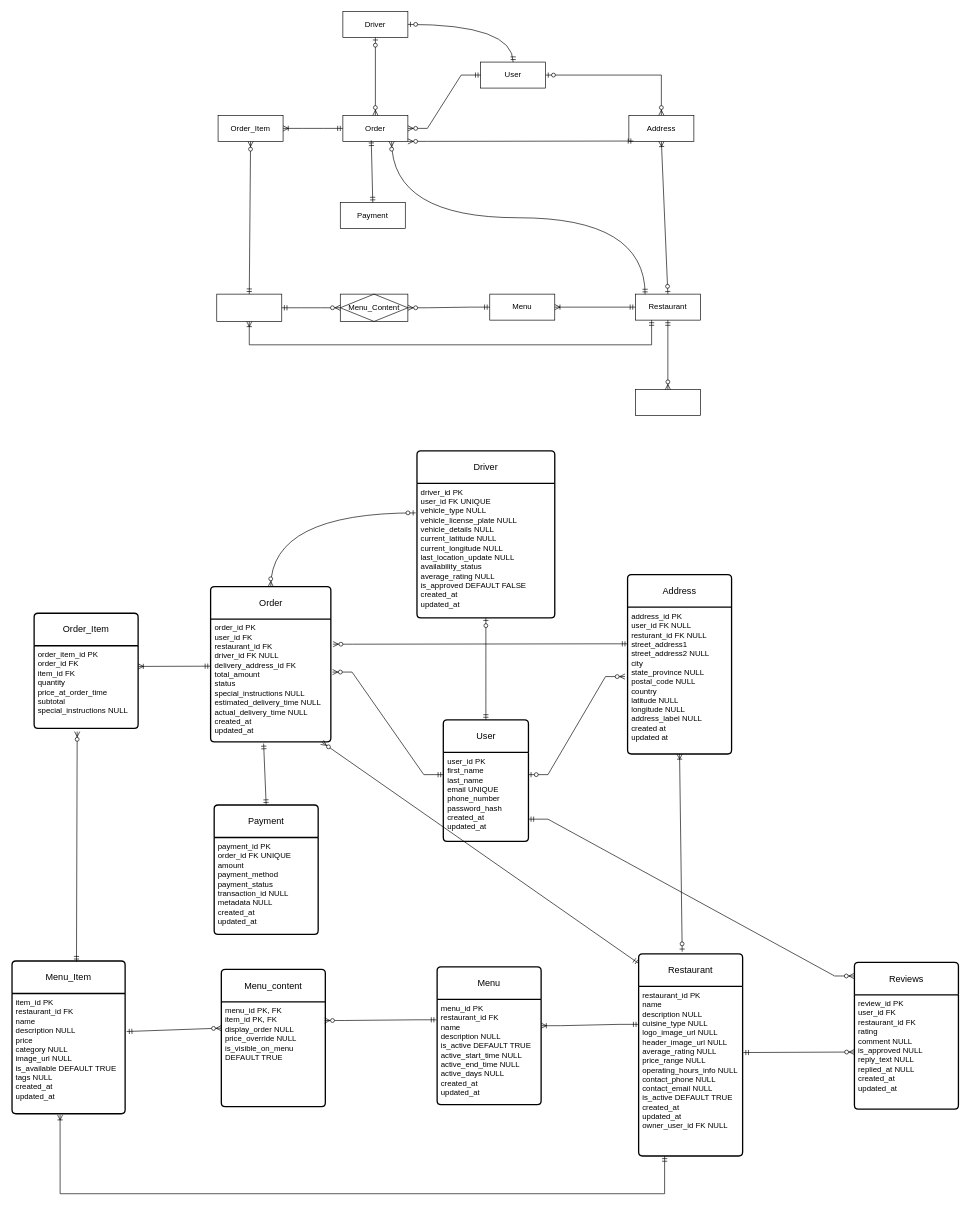
Some shapes in this 970 by 1211 pixel diagram are drawn without their labels. The centre of each missing label's shape, as x and y in pixels:
MenuItem: the point at 249,307
Review: the point at 667,402
